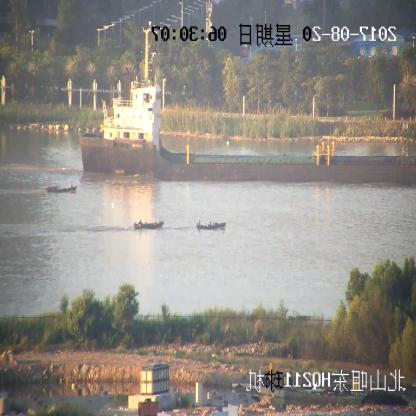Fishing Boat: (196, 219, 226, 231), (133, 219, 163, 230), (46, 183, 76, 192)
